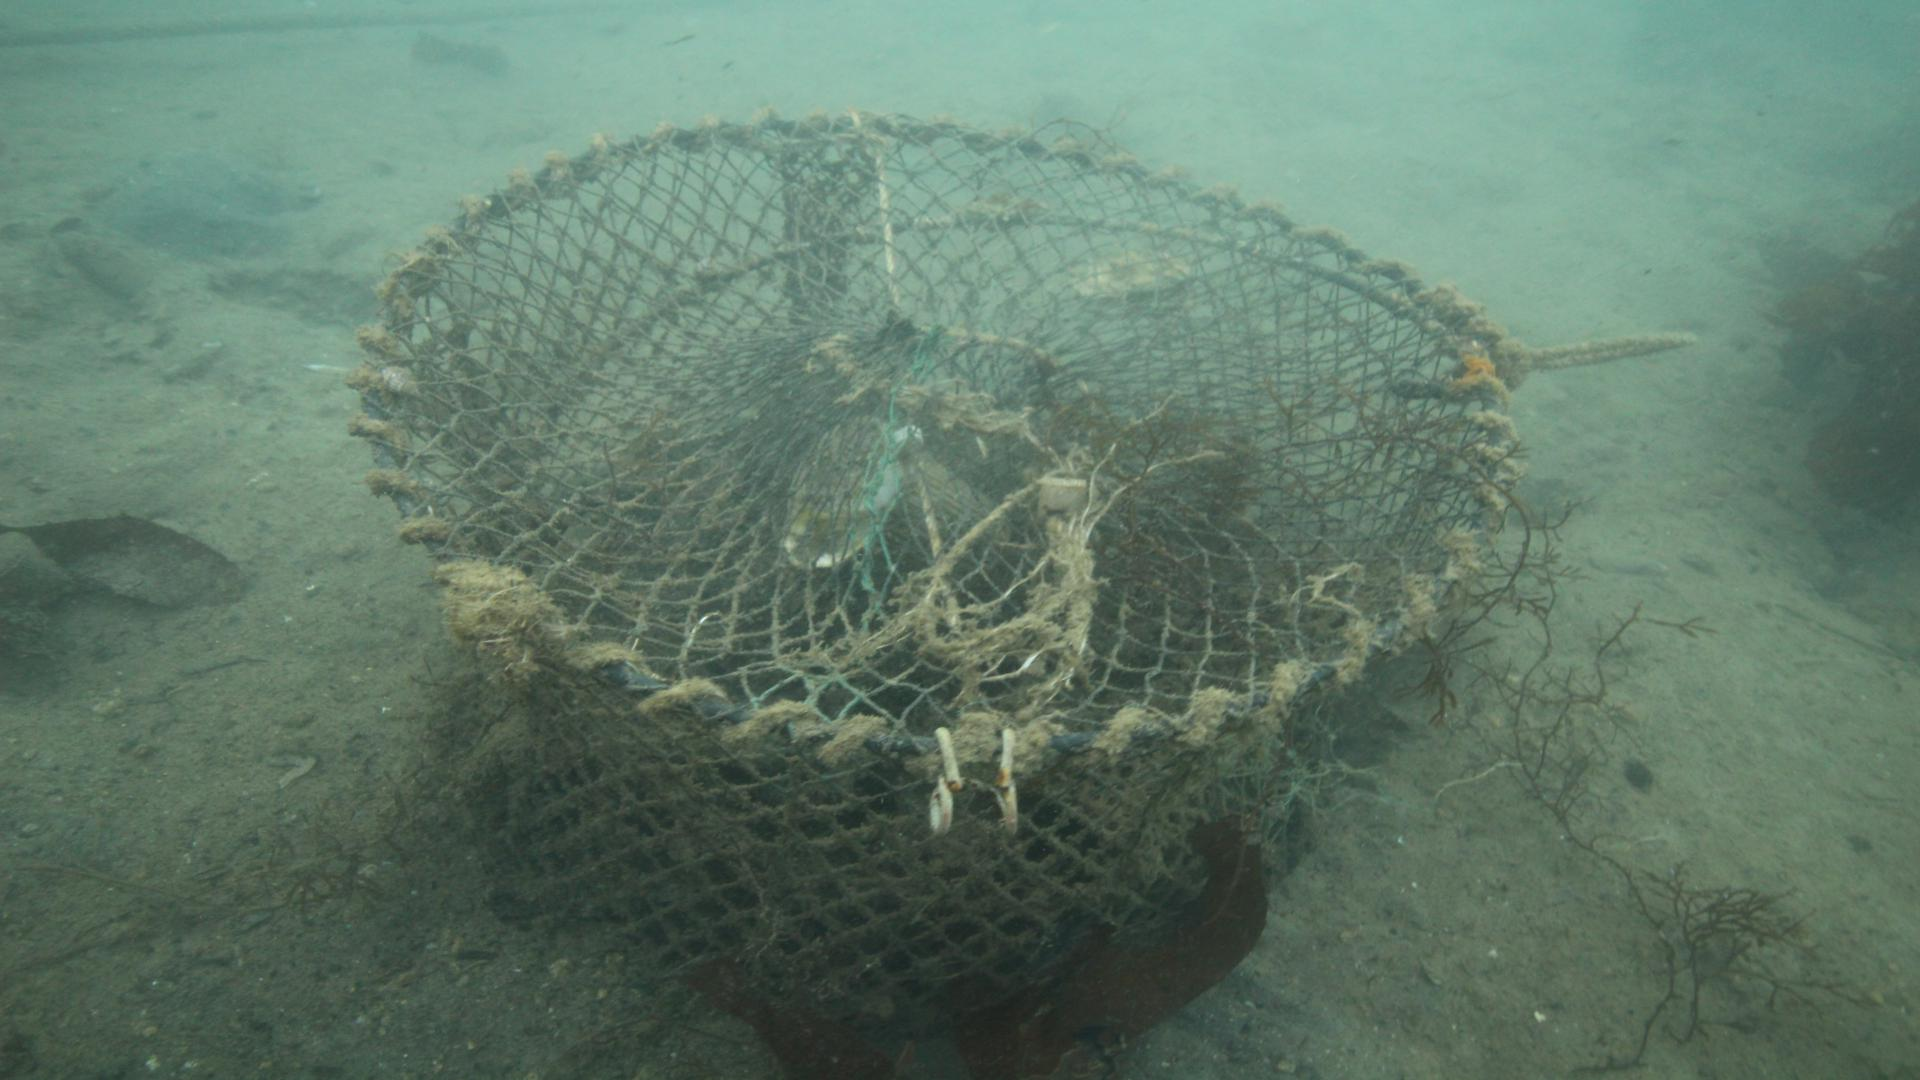circular fish trap: (343, 103, 1520, 1036)
rope: (1534, 327, 1695, 375)
